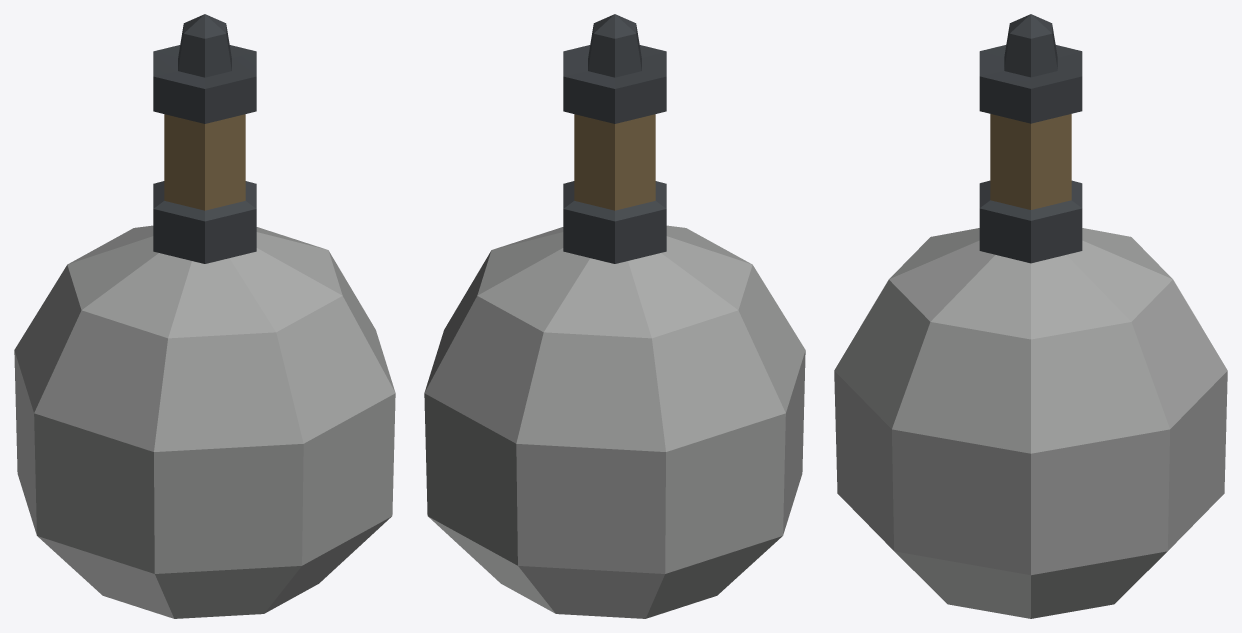
The model's file is SM_Prop_Light_05.obj.
3 views of the same model, side by side, from view 1: azimuth 30°, elevation 25°; view 2: azimuth 150°, elevation 25°; view 3: azimuth 270°, elevation 25° (orthographic).
Parts seen in each view (by area): view 1: SM_Prop_Light_05_0; view 2: SM_Prop_Light_05_0; view 3: SM_Prop_Light_05_0.
Boxes of the visible parts, bbox=[...] form: SM_Prop_Light_05_0: bbox=[14, 14, 395, 618]; SM_Prop_Light_05_0: bbox=[424, 14, 805, 618]; SM_Prop_Light_05_0: bbox=[834, 14, 1227, 618].
Bounding box in the file's own units: 0.3276 × 0.546 × 0.3276.
1 material, 1 textured.
